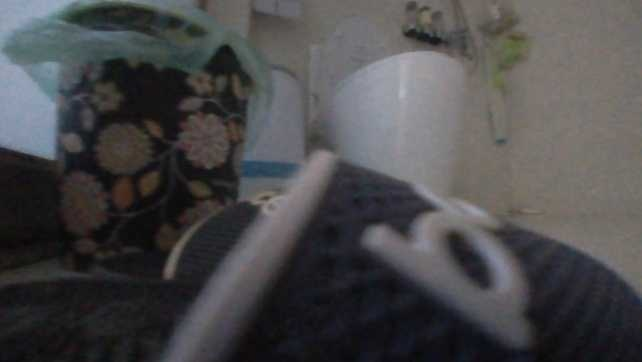slipper: (0, 147, 638, 360)
toilet: (305, 15, 466, 197)
trash_can: (5, 0, 277, 272)
